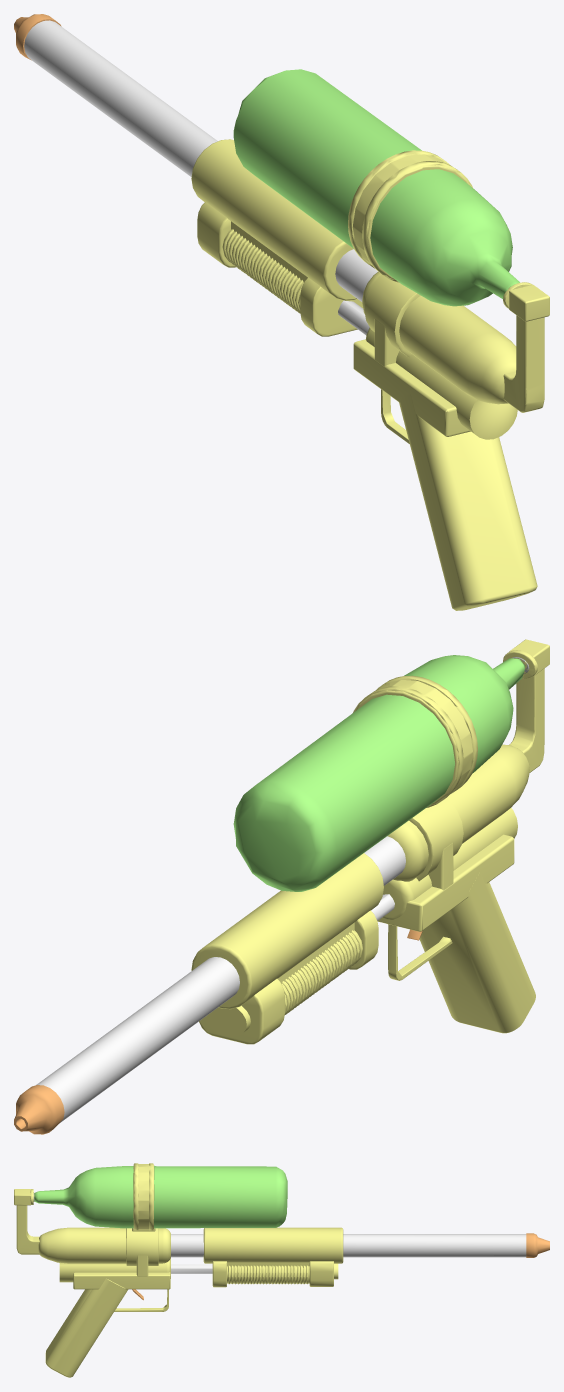
Rendered from super_soaker.glb.
The picture shows the model from 3 angles, top to bottom: view 1: azimuth 30°, elevation 25°; view 2: azimuth 150°, elevation 25°; view 3: azimuth 270°, elevation 25°; orthographic projection. The views are drawn at different scales.
Visible parts, largest first — view 1: pCylinder45; view 2: pCylinder45; view 3: pCylinder45.
Boxes of the visible parts, left/top/right/bottom form: pCylinder45: left=14, top=14, right=549, bottom=610; pCylinder45: left=14, top=639, right=549, bottom=1134; pCylinder45: left=14, top=1163, right=549, bottom=1377.
Size of the model in its own units: 0.0571 by 0.1929 by 0.4573.
